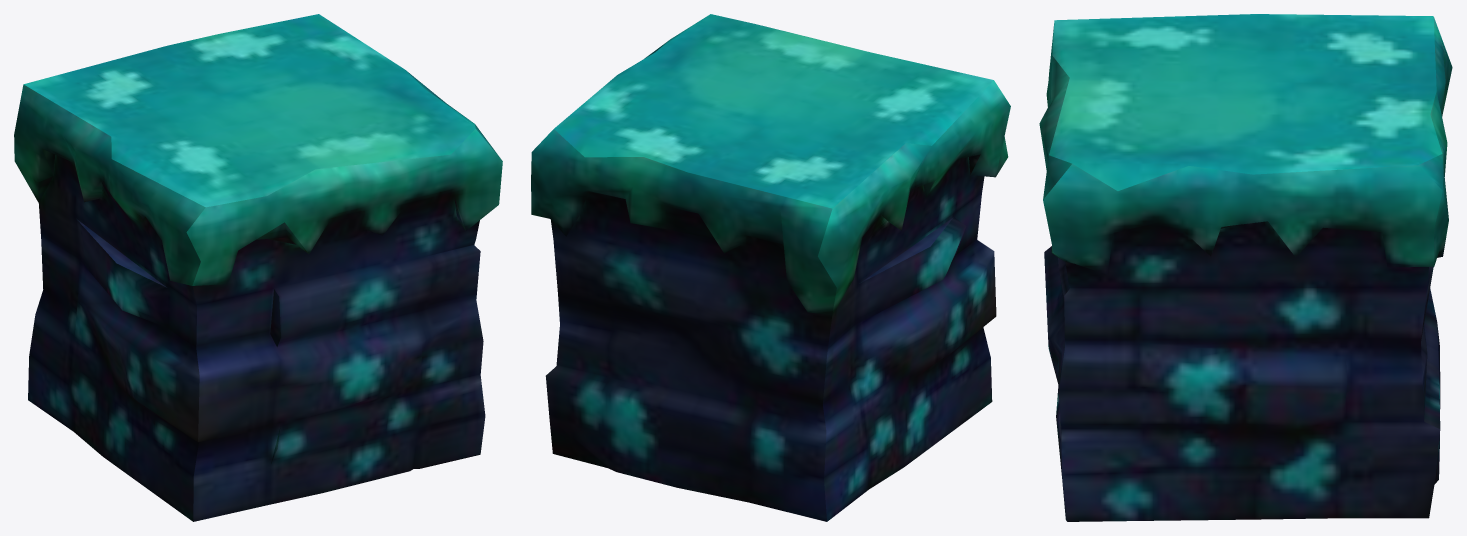
File: b_mycelium_mur_1.glb
3 renders of one model, left to right at view 1: azimuth 30°, elevation 25°; view 2: azimuth 150°, elevation 25°; view 3: azimuth 270°, elevation 25°, orthographic. The views are drawn at different scales.
Parts seen in each view (by area): view 1: geometry_0; view 2: geometry_0; view 3: geometry_0.
Part boxes in pixels (left/top/right/bottom): geometry_0: left=14, top=14, right=502, bottom=521; geometry_0: left=531, top=14, right=1010, bottom=521; geometry_0: left=1039, top=14, right=1452, bottom=521.
Bounding box in the file's own units: 1 × 0.9531 × 1.
Materials: 1 (1 with a texture image).
